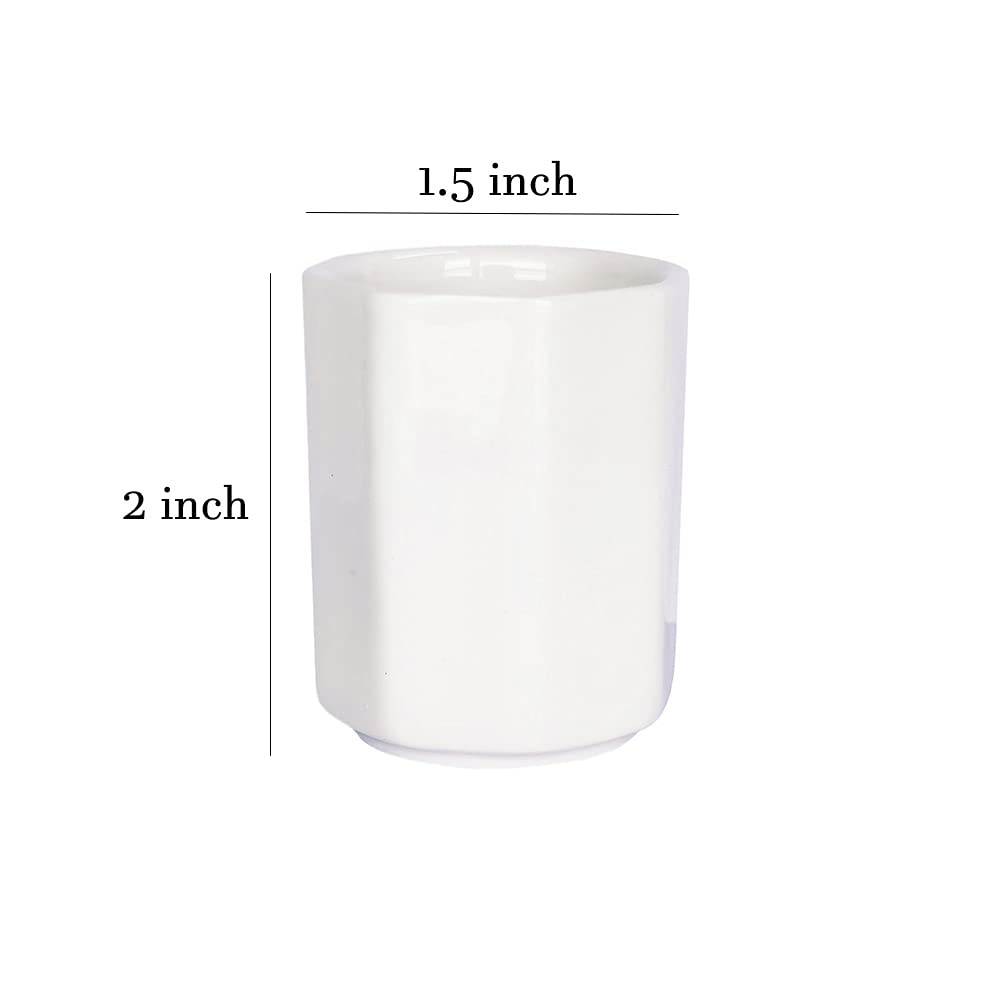1.5: (419, 168, 473, 202)
2: (123, 491, 145, 519)
inch: (490, 161, 576, 196), (162, 485, 248, 520)
